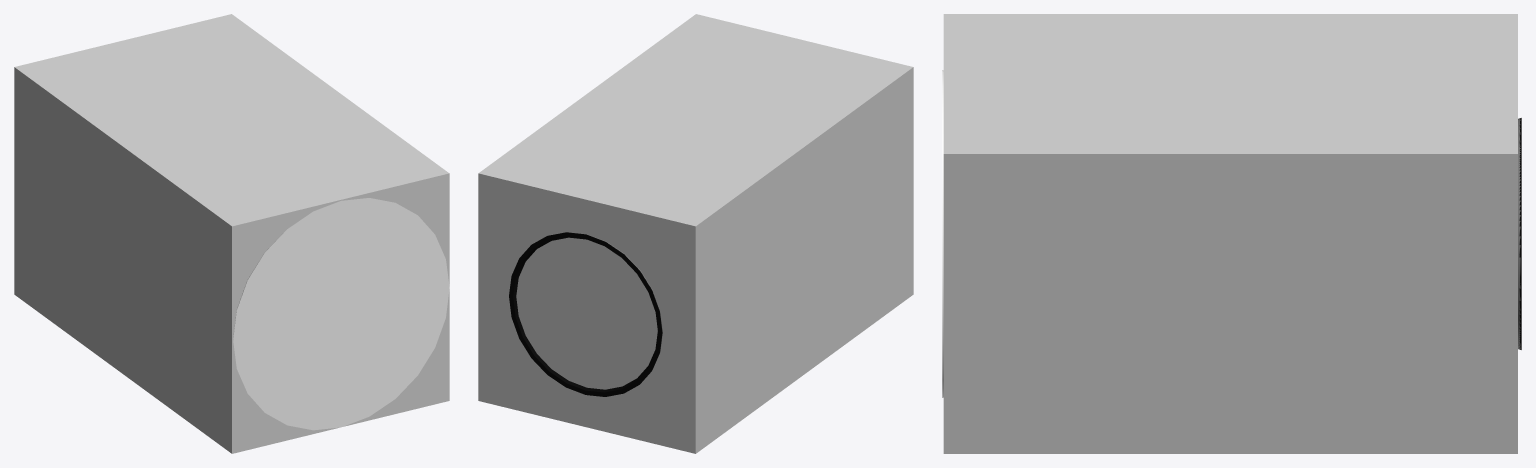
Rendered from engine_better.glb.
3 renders of one model, left to right at view 1: azimuth 30°, elevation 25°; view 2: azimuth 150°, elevation 25°; view 3: azimuth 270°, elevation 25°, orthographic. The views are drawn at different scales.
Visible parts, largest first — view 1: col_main, Shroud; view 2: col_main, Engine; view 3: col_main, Engine, Shroud.
Boxes of the visible parts, x1=… form: col_main: x1=14, y1=14, x2=449, y2=453; Shroud: x1=233, y1=198, x2=449, y2=430; col_main: x1=478, y1=14, x2=913, y2=453; Engine: x1=509, y1=232, x2=662, y2=396; col_main: x1=943, y1=14, x2=1517, y2=453; Engine: x1=1518, y1=118, x2=1521, y2=349; Shroud: x1=942, y1=70, x2=943, y2=397.
Bounding box in the file's own units: 2.01 × 2.01 × 3.52.
Materials: 1 (1 with a texture image).
